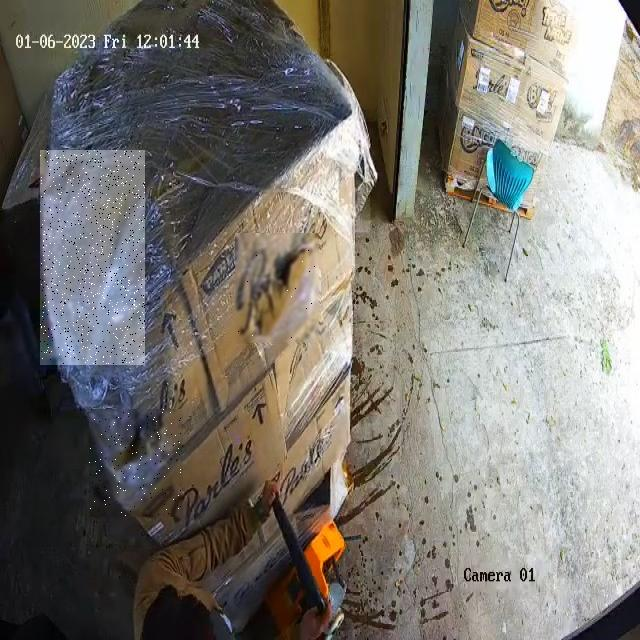leakage: (90, 409, 181, 516), (236, 234, 318, 342)
squeeze: (40, 150, 145, 364)
